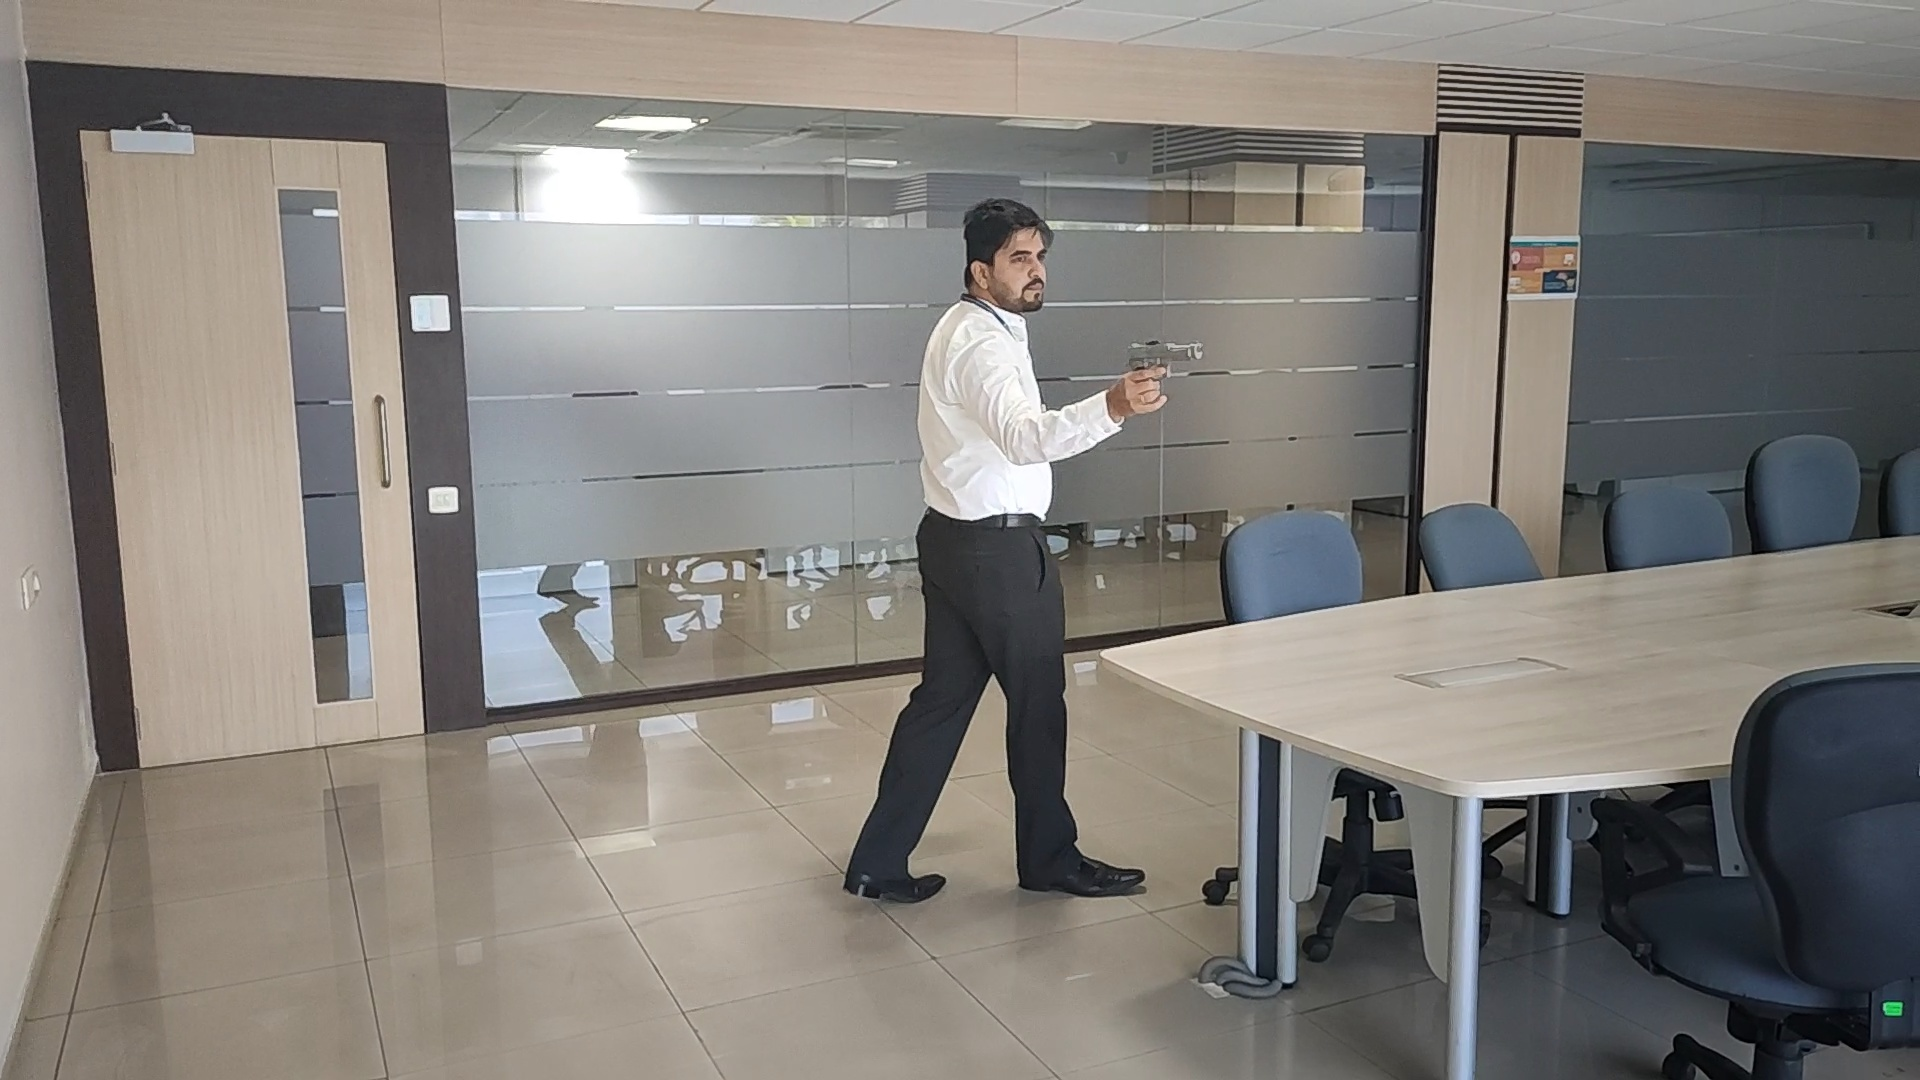gun: (1127, 338, 1203, 376)
